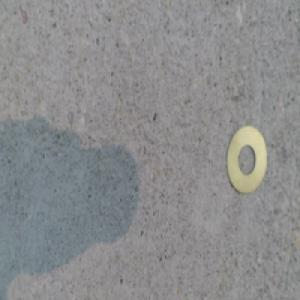Washer: (224, 123, 266, 195)
